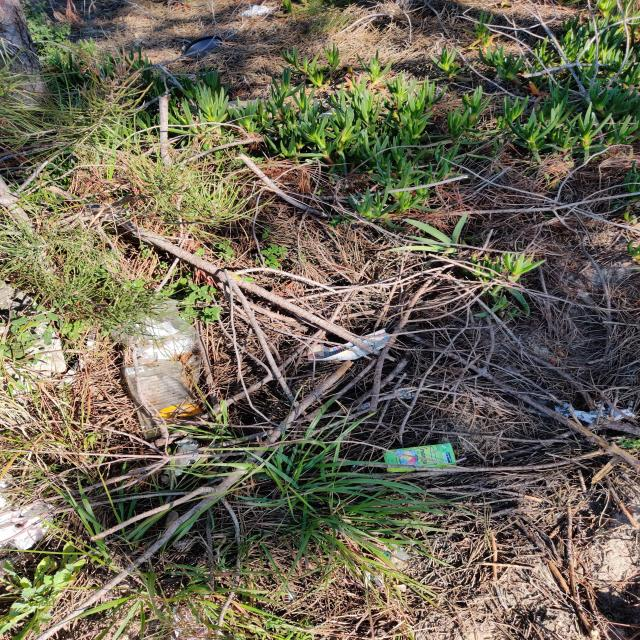litter: (116, 306, 203, 434), (309, 326, 401, 364), (387, 445, 458, 475)
